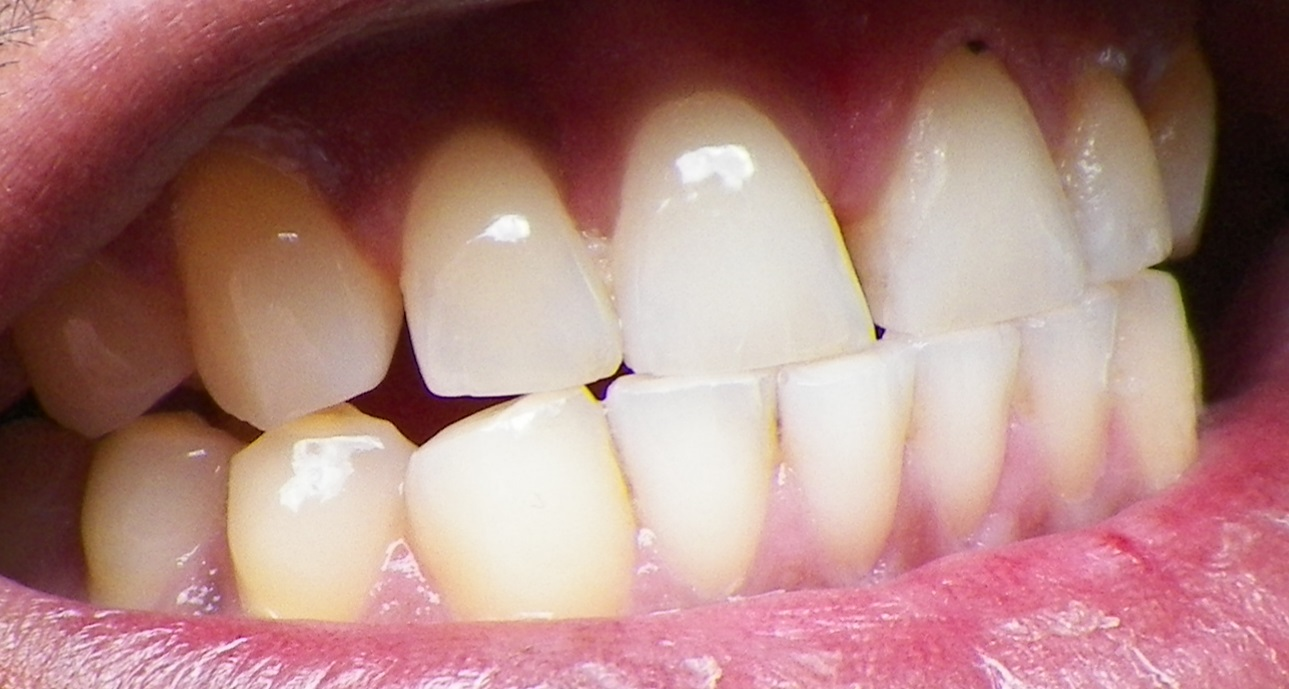boca: (52, 35, 1229, 615)
